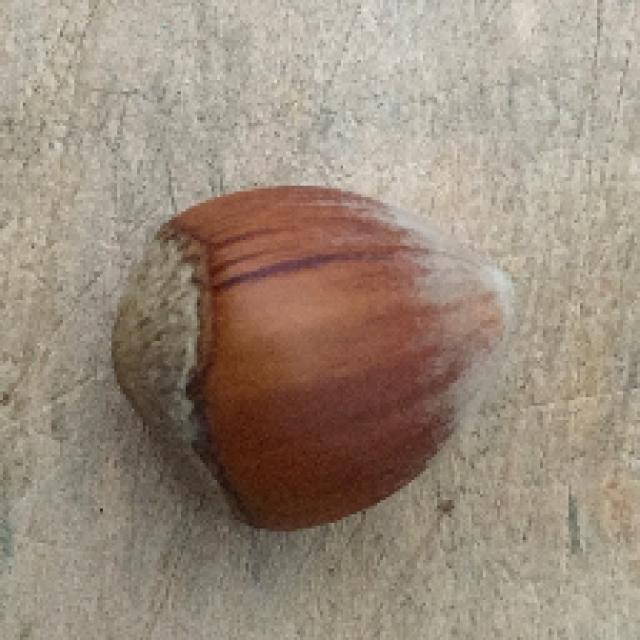qualityHazelnut: (105, 170, 530, 536)
